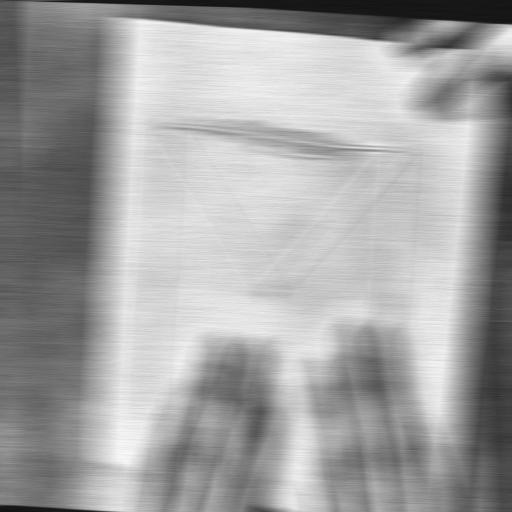bottom_right: (89, 450, 105, 461)
envelop: (134, 113, 413, 487)
top_left: (485, 49, 502, 60)
top_right: (111, 11, 128, 23)
